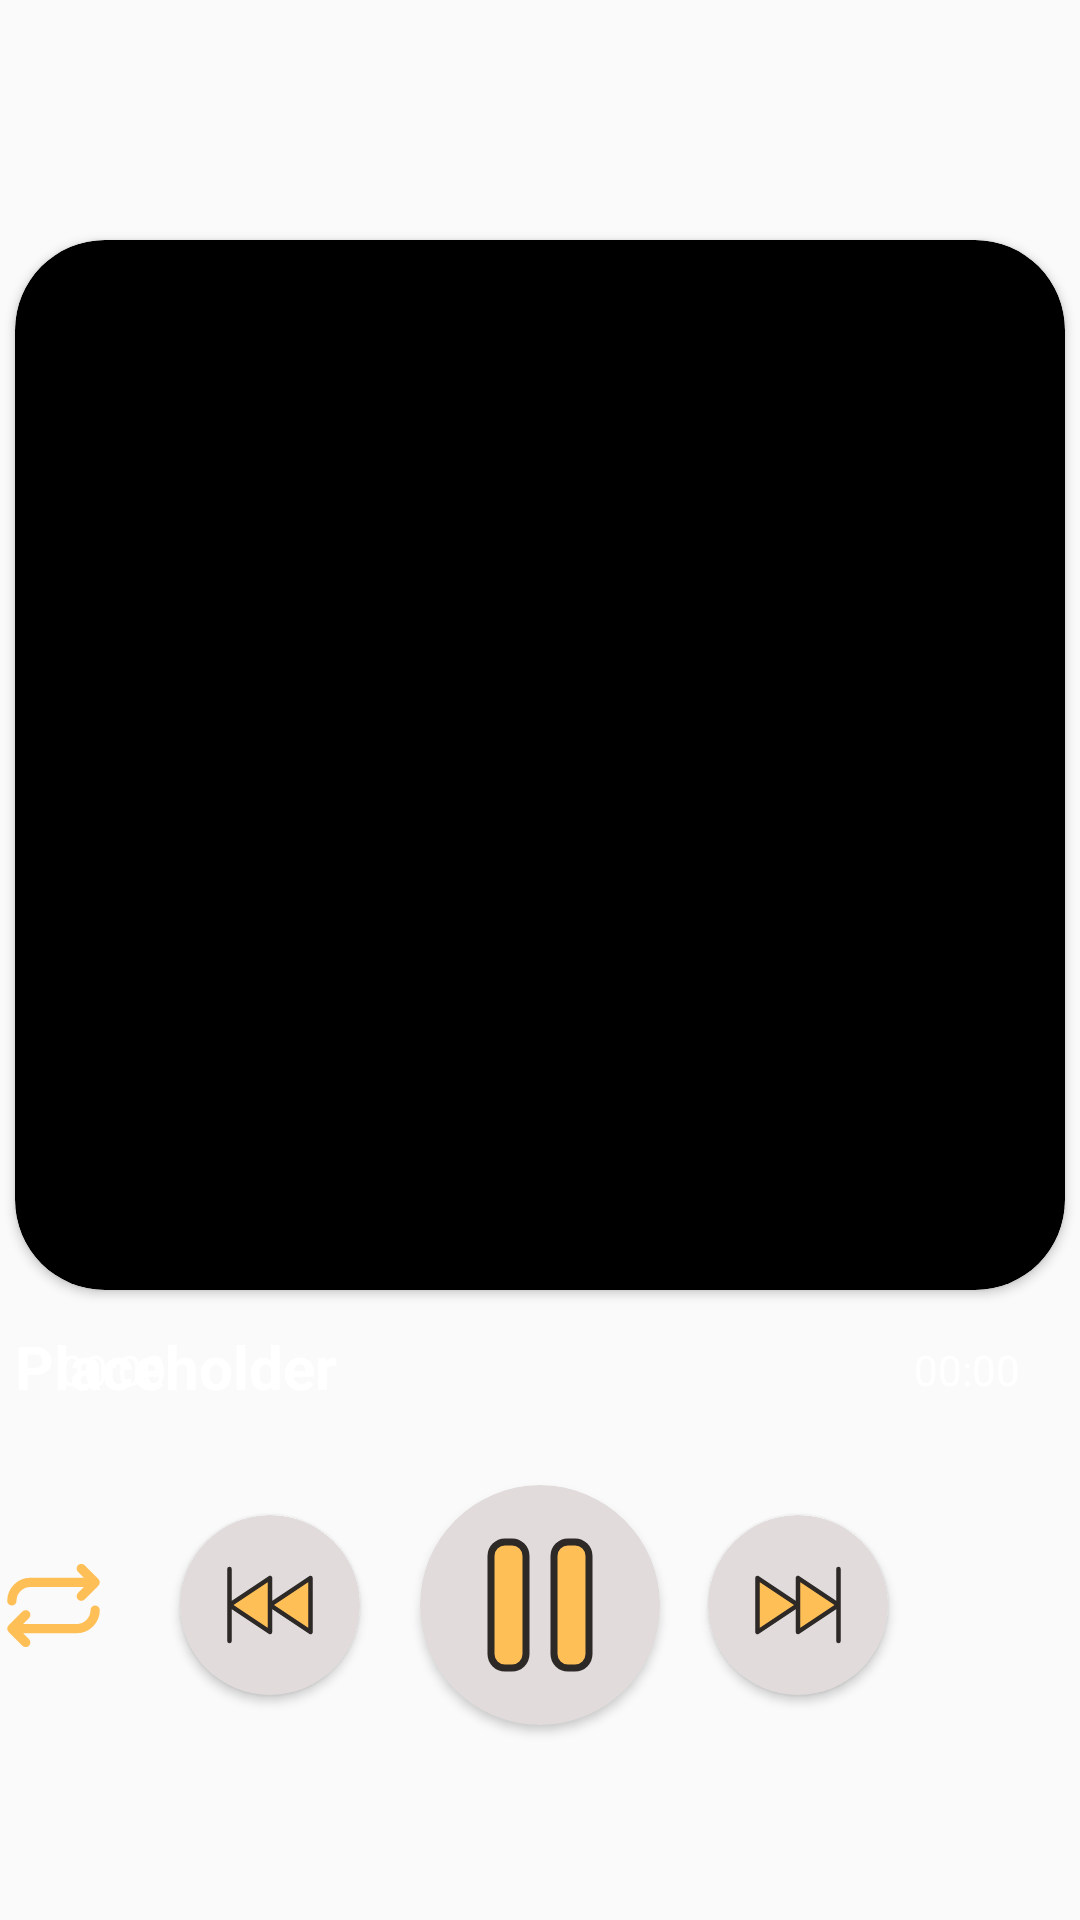

Point at icon controls on the screen. Image size 1080x1920, points as (x=x, y=y).
muel backward wrap: (x=270, y=1605)
muel forward wrap: (x=798, y=1605)
muel pause wrap: (x=540, y=1605)
